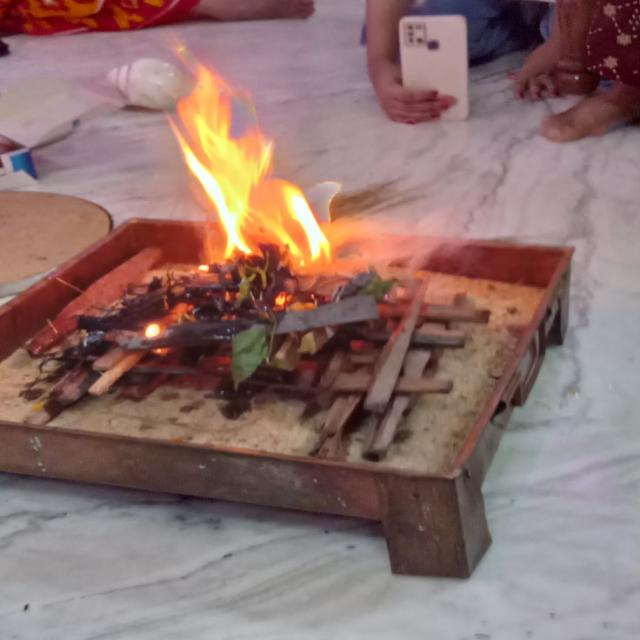fire: (164, 38, 332, 273)
